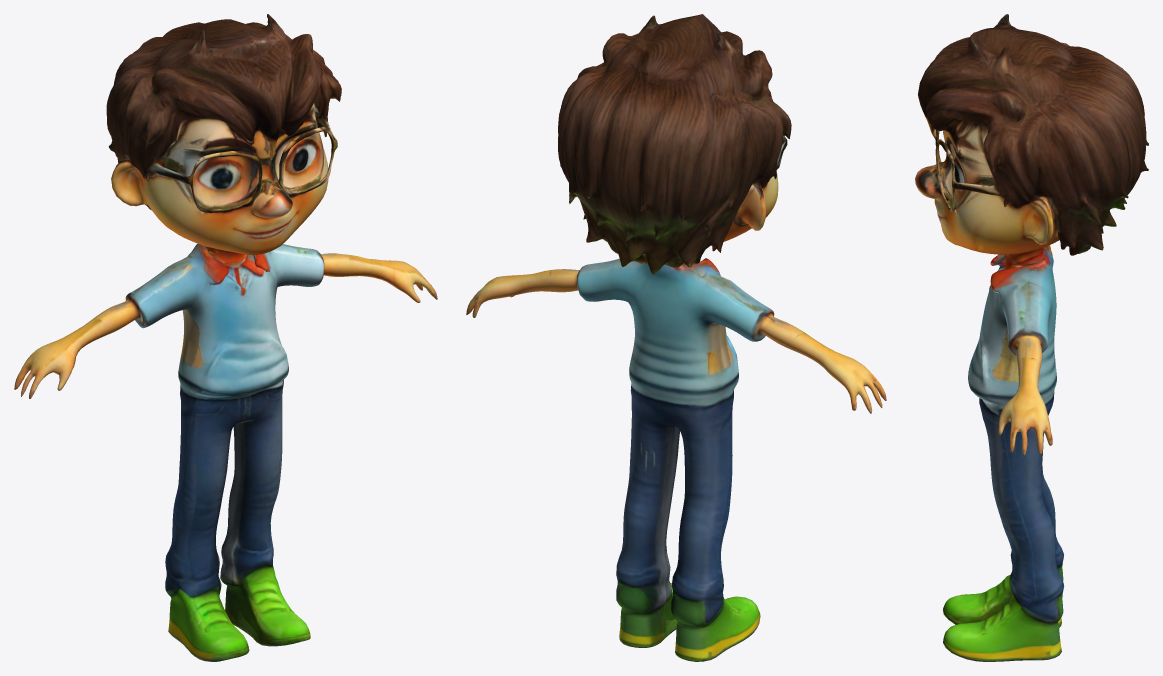
The model's file is Robert_0503220601_texture.glb.
3 renders of one model, left to right at view 1: azimuth 30°, elevation 25°; view 2: azimuth 150°, elevation 25°; view 3: azimuth 270°, elevation 25°, orthographic.
Bounding box in the file's own units: 1.4 × 2 × 0.6973.
Materials: 1 (1 with a texture image).
